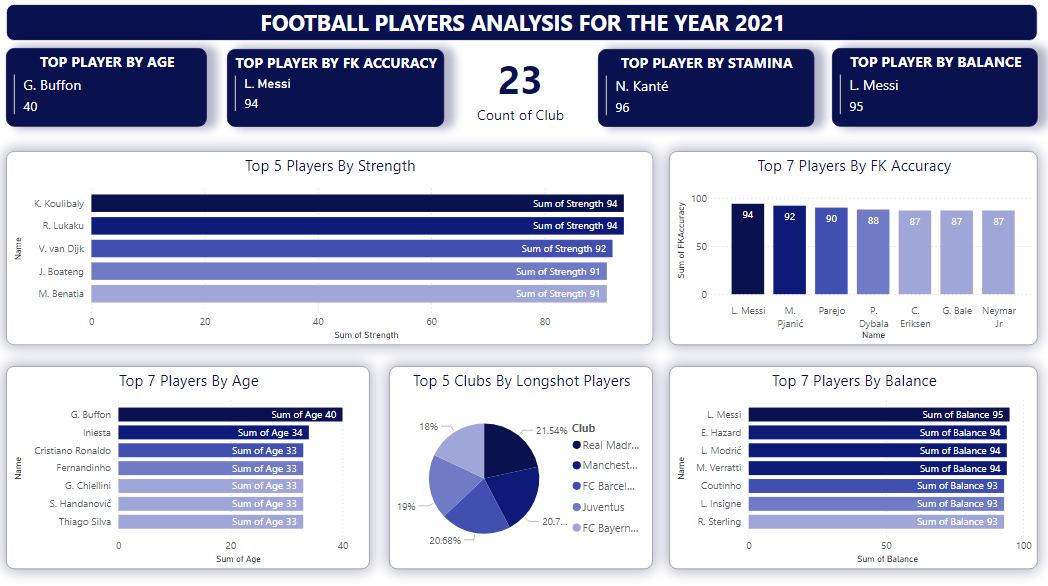

This screenshot's page, from the dashboard's own definition file:
{"tool":"powerbi","page":{"name":"Page 1","canvas":[1280,720],"ordinal":0},"visuals":[{"type":"barChart","title":"Top 5 Players By Strength","fields":{"Category":["football_mini.Name"],"Y":["football_mini.Strength"]},"box":[8.5,189.2,789.6,236.7],"z":0},{"type":"textbox","title":"FOOTBALL PLAYERS ANALYSIS FOR THE YEAR 2021","box":[8.5,9.8,1259.4,45.2],"z":1000},{"type":"barChart","title":"Top 7 Players By Age","fields":{"Y":["football_mini.Age"],"Category":["football_mini.Name"]},"box":[8.5,451.5,444.2,247.7],"z":2000},{"type":"columnChart","title":"Top 7 Players By FK Accuracy","fields":{"Category":["football_mini.Name"],"Y":["football_mini.FKAccuracy"]},"box":[817.6,189.2,450.3,236.7],"z":3000},{"type":"pieChart","title":"Top 5 Clubs By Longshot Players","fields":{"Category":["football_mini.Club"],"Y":["football_mini.LongShots"]},"box":[475.9,451.5,322.2,247.7],"z":4000},{"type":"barChart","title":"Top 7 Players By Balance","fields":{"Category":["football_mini.Name"],"Y":["football_mini.Balance"]},"box":[817.6,451.5,450.3,247.7],"z":5000},{"type":"card","fields":{"Values":["football_mini.Club"]},"box":[541.8,63.5,189.2,96.4],"z":6000},{"type":"multiRowCard","title":"TOP PLAYER BY AGE","fields":{"Values":["football_mini.Age","football_mini.Name"]},"box":[8.5,63.5,245.3,96.4],"z":7000},{"type":"multiRowCard","title":"TOP PLAYER BY BALANCE","fields":{"Values":["football_mini.Balance","football_mini.Name"]},"box":[1016.5,63.5,251.4,96.4],"z":8000},{"type":"multiRowCard","title":"TOP PLAYER BY FK ACCURACY","fields":{"Values":["football_mini.FKAccuracy","football_mini.Name"]},"box":[278.2,64.7,264.8,95.2],"z":9000},{"type":"multiRowCard","title":"TOP PLAYER BY STAMINA","fields":{"Values":["football_mini.Stamina","football_mini.Name"]},"box":[731,64.7,263.6,95.2],"z":9001}]}

Visuals, with their boxes in screenshot pixels (x1, y1, x2, y2), scaled from the page's 1280x720 canvas onto the 1048x586 screenshot:
"Top 5 Players By Strength" barChart: pyautogui.locateOnScreen(7, 154, 653, 347)
"FOOTBALL PLAYERS ANALYSIS FOR THE YEAR 2021" textbox: pyautogui.locateOnScreen(7, 8, 1038, 45)
"Top 7 Players By Age" barChart: pyautogui.locateOnScreen(7, 367, 371, 569)
"Top 7 Players By FK Accuracy" columnChart: pyautogui.locateOnScreen(669, 154, 1038, 347)
"Top 5 Clubs By Longshot Players" pieChart: pyautogui.locateOnScreen(390, 367, 653, 569)
"Top 7 Players By Balance" barChart: pyautogui.locateOnScreen(669, 367, 1038, 569)
card - football_mini.Club: pyautogui.locateOnScreen(444, 52, 599, 130)
"TOP PLAYER BY AGE" multiRowCard: pyautogui.locateOnScreen(7, 52, 208, 130)
"TOP PLAYER BY BALANCE" multiRowCard: pyautogui.locateOnScreen(832, 52, 1038, 130)
"TOP PLAYER BY FK ACCURACY" multiRowCard: pyautogui.locateOnScreen(228, 53, 445, 130)
"TOP PLAYER BY STAMINA" multiRowCard: pyautogui.locateOnScreen(599, 53, 814, 130)
